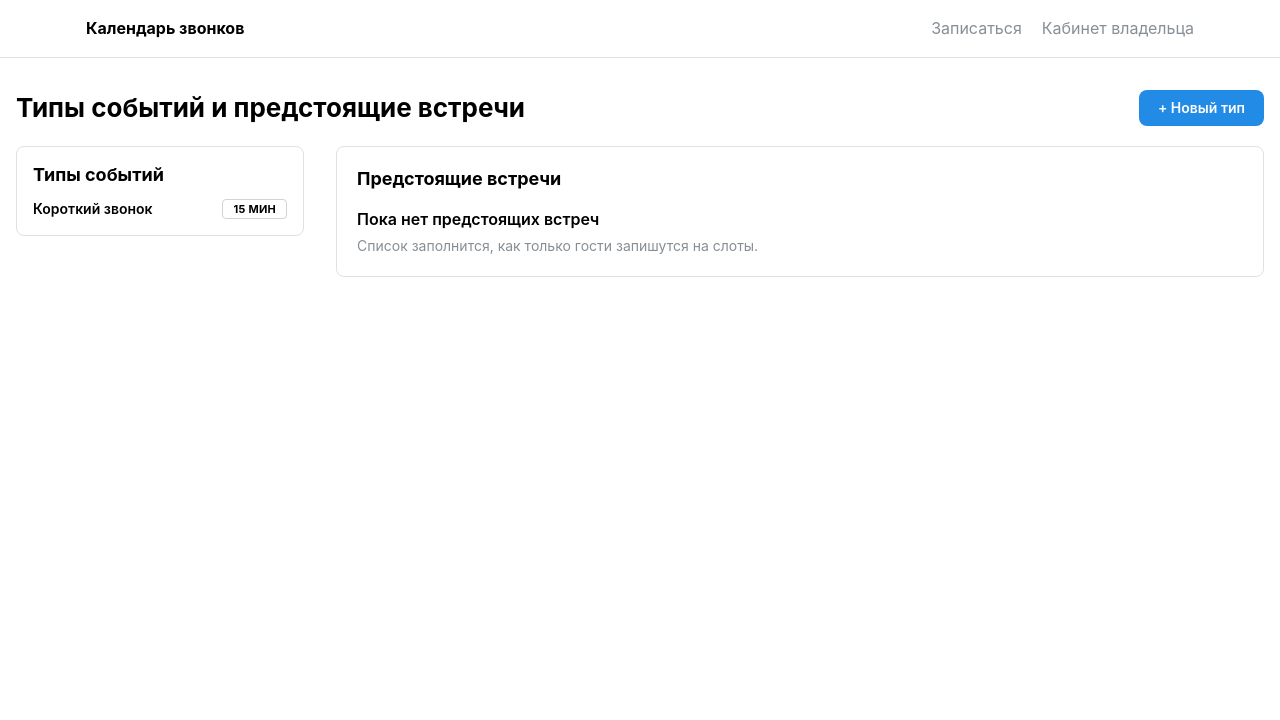
Test case: /admin: создание типа события › показывает ошибки 400 под полями и не закрывает панель
The image size is (1280, 720).
Click the button "+ Новый тип" at {"x": 1201, "y": 108}, box [1139, 90, 1264, 126]
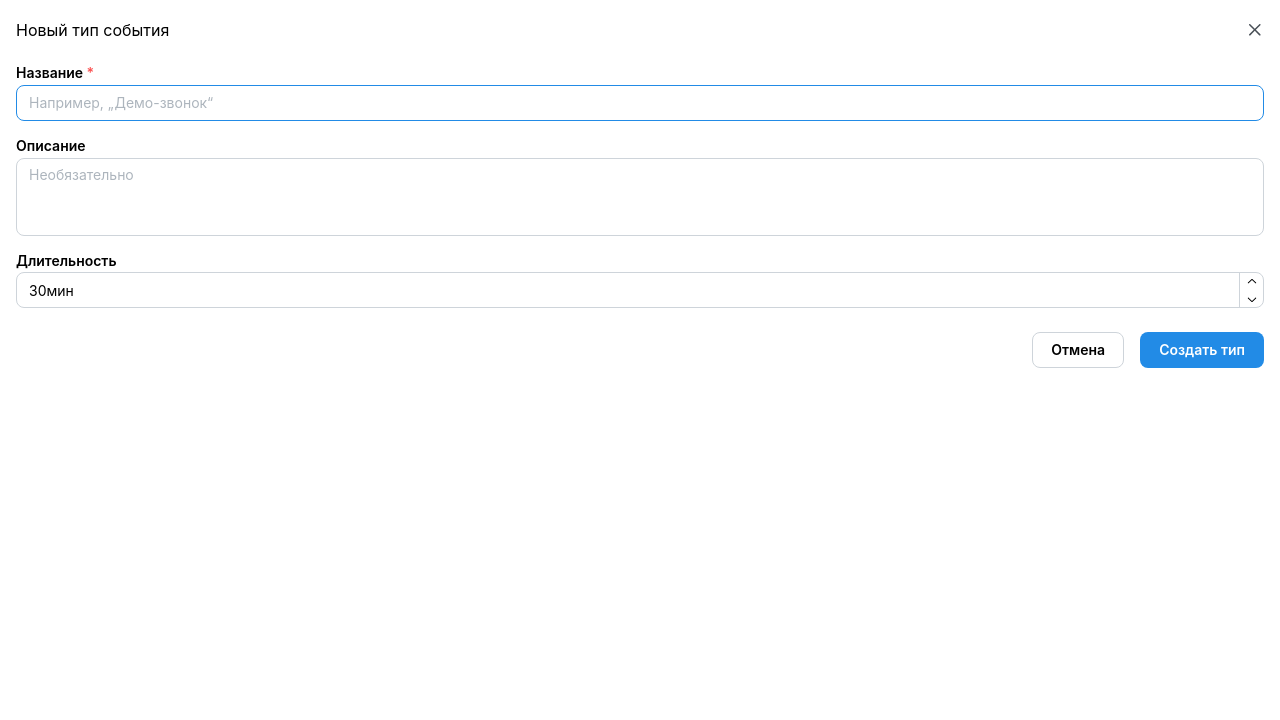
Type "Демо-звонок" into the field labelled "Название *" at {"x": 640, "y": 103}, box [16, 85, 1264, 121]
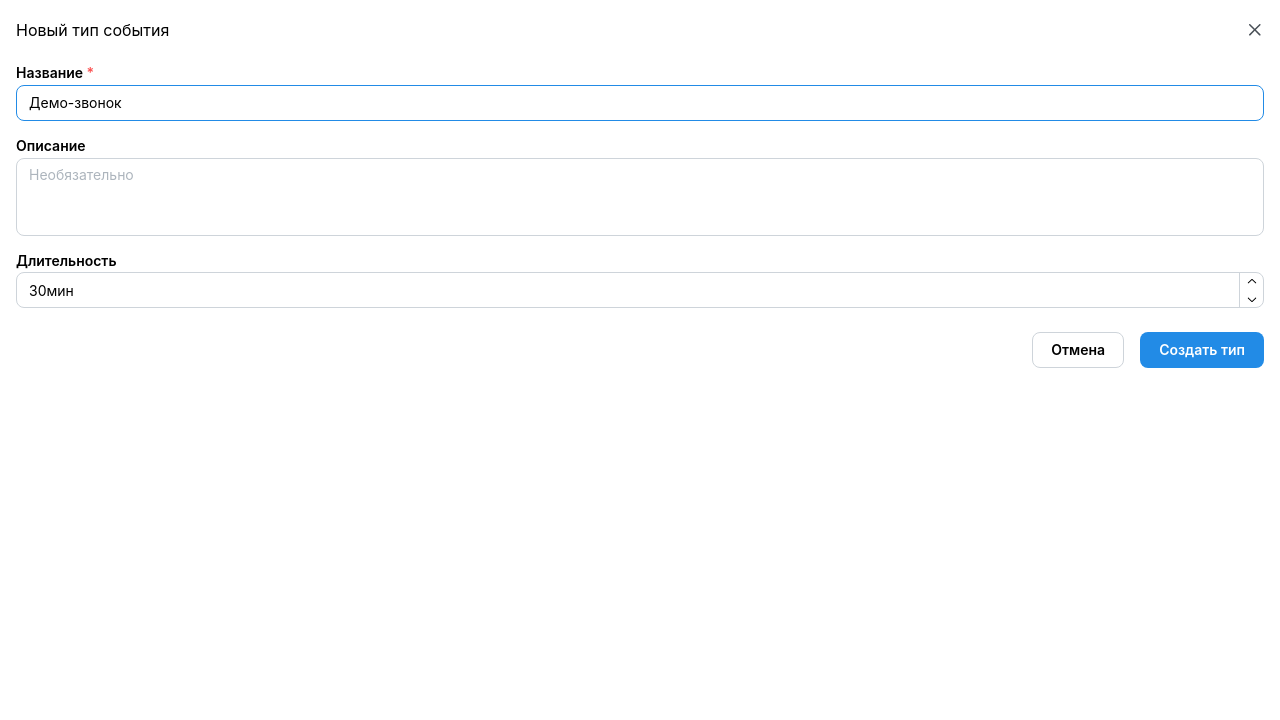
Type "Показ продукта и ответы на вопросы." into the text box labelled "Описание" at {"x": 640, "y": 197}, box [16, 158, 1264, 236]
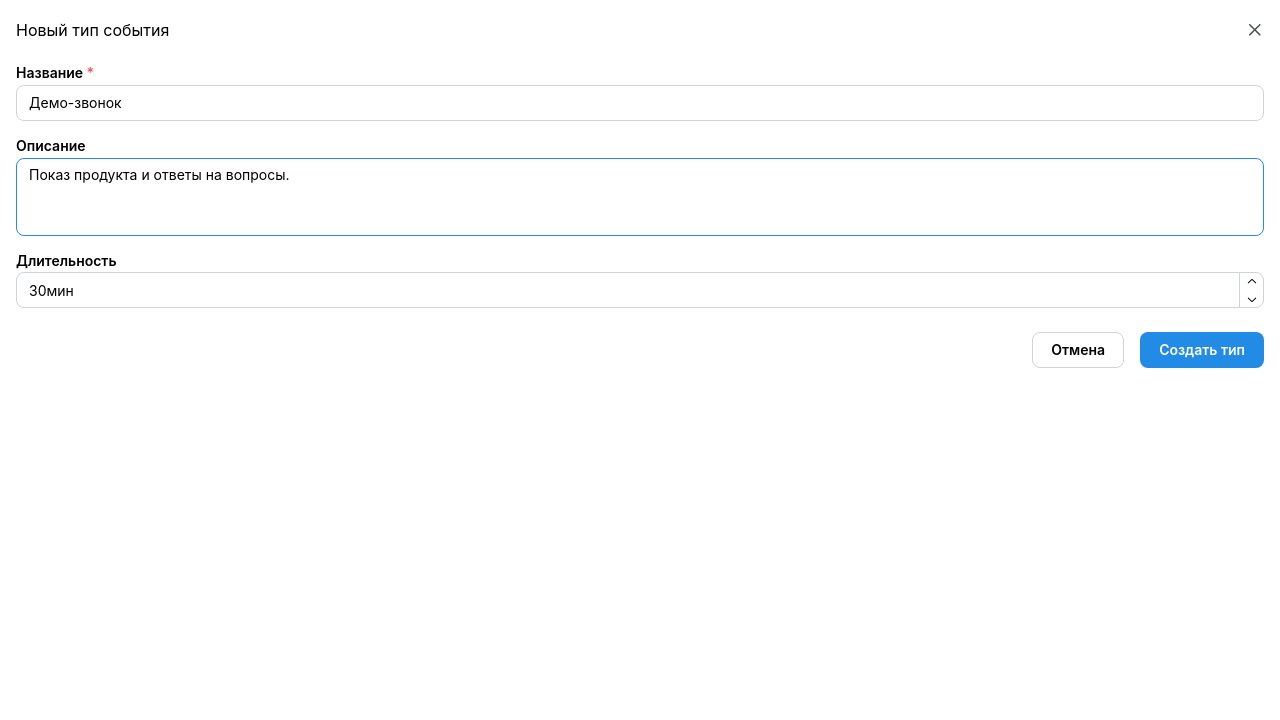
Replace the text in the field labelled "Длительность" with "45" at {"x": 640, "y": 290}, box [16, 272, 1264, 308]
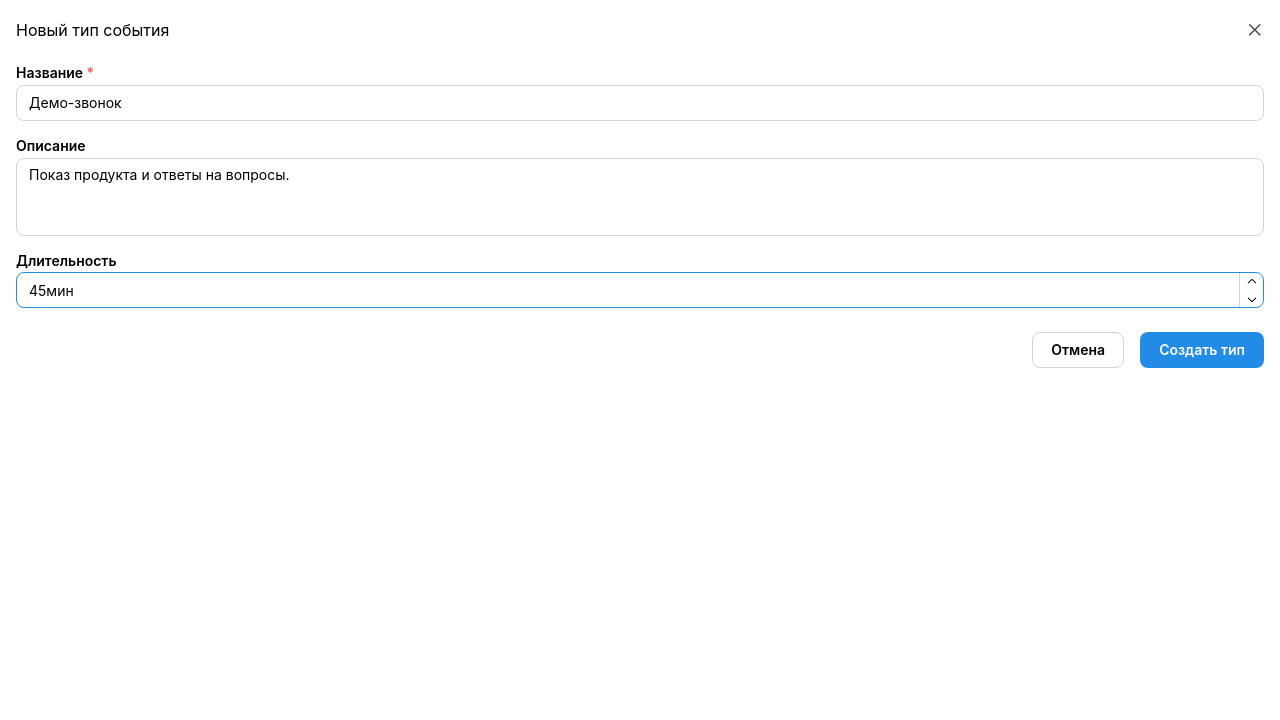
Click the button "Создать тип" at {"x": 1202, "y": 350}, box [1140, 332, 1264, 368]
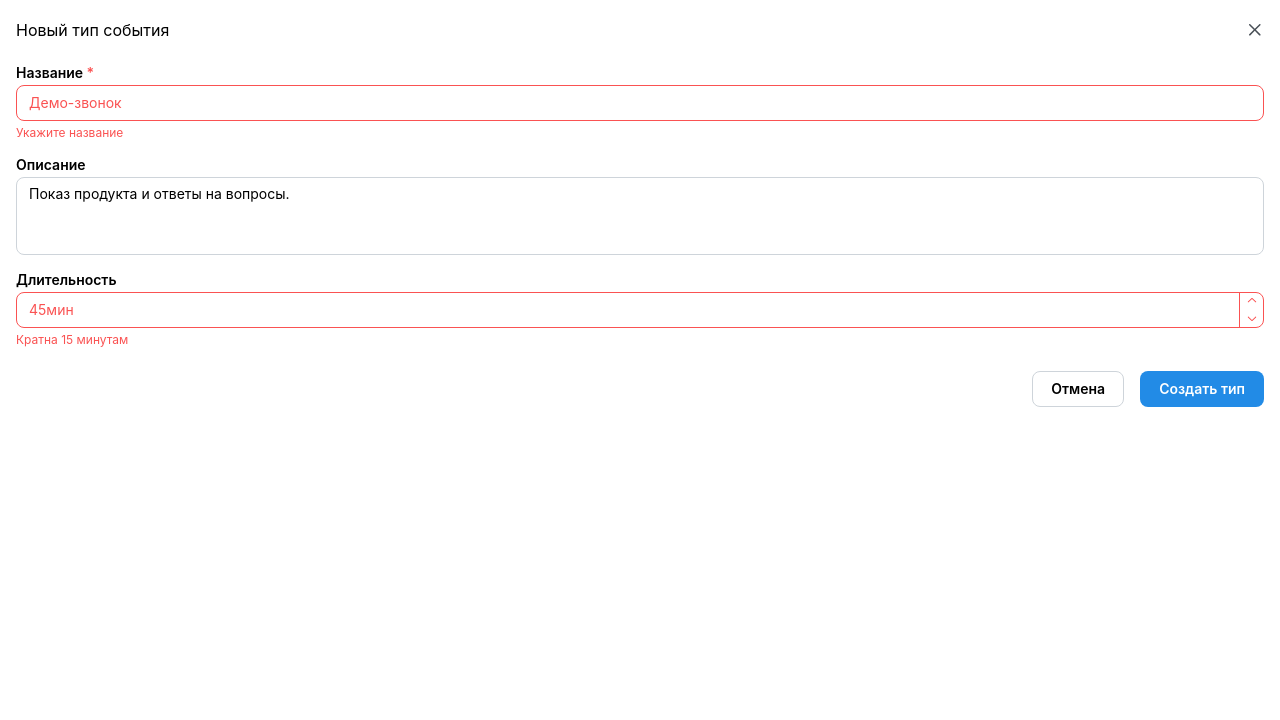
Expected: the dialog "Новый тип события" is shown
Expected: the text "Укажите название" is shown, [16, 125, 123, 140]
Expected: the text "Кратна 15 минутам" is shown, [16, 332, 128, 347]
